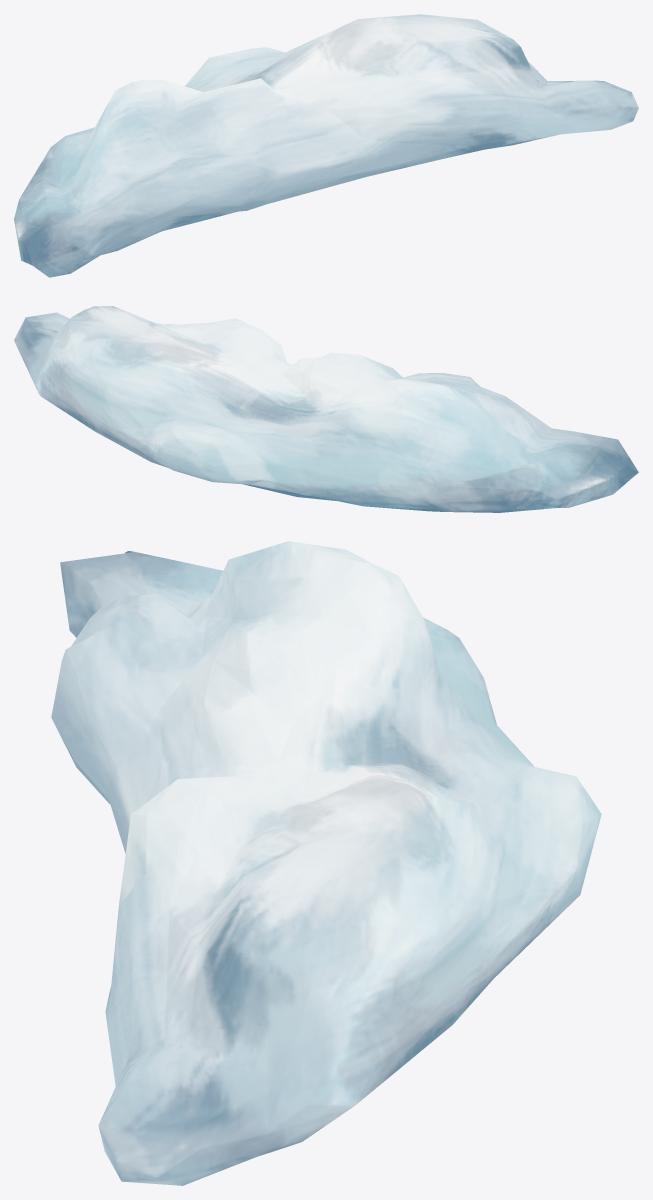
Rendered from SM_Prop_Cloud_03.fbx.
3 views of the same model, one above another, from view 1: azimuth 30°, elevation 25°; view 2: azimuth 150°, elevation 25°; view 3: azimuth 270°, elevation 25° (orthographic). The views are drawn at different scales.
Visible parts, largest first — view 1: SM_Prop_Cloud_03; view 2: SM_Prop_Cloud_03; view 3: SM_Prop_Cloud_03.
Boxes of the visible parts, x1=… form: SM_Prop_Cloud_03: x1=14, y1=14, x2=638, y2=277; SM_Prop_Cloud_03: x1=14, y1=306, x2=638, y2=512; SM_Prop_Cloud_03: x1=51, y1=541, x2=601, y2=1185.
Size of the model in its own units: 78966 by 14940 by 30927.
